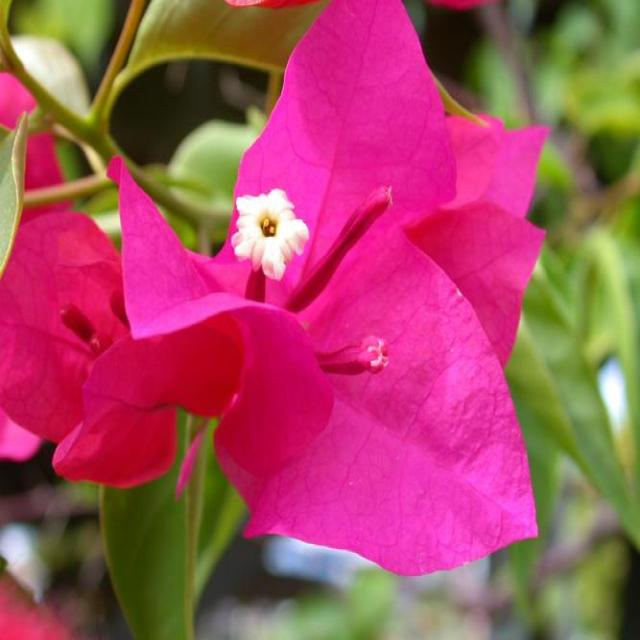bougainvillea: (20, 20, 640, 632)
